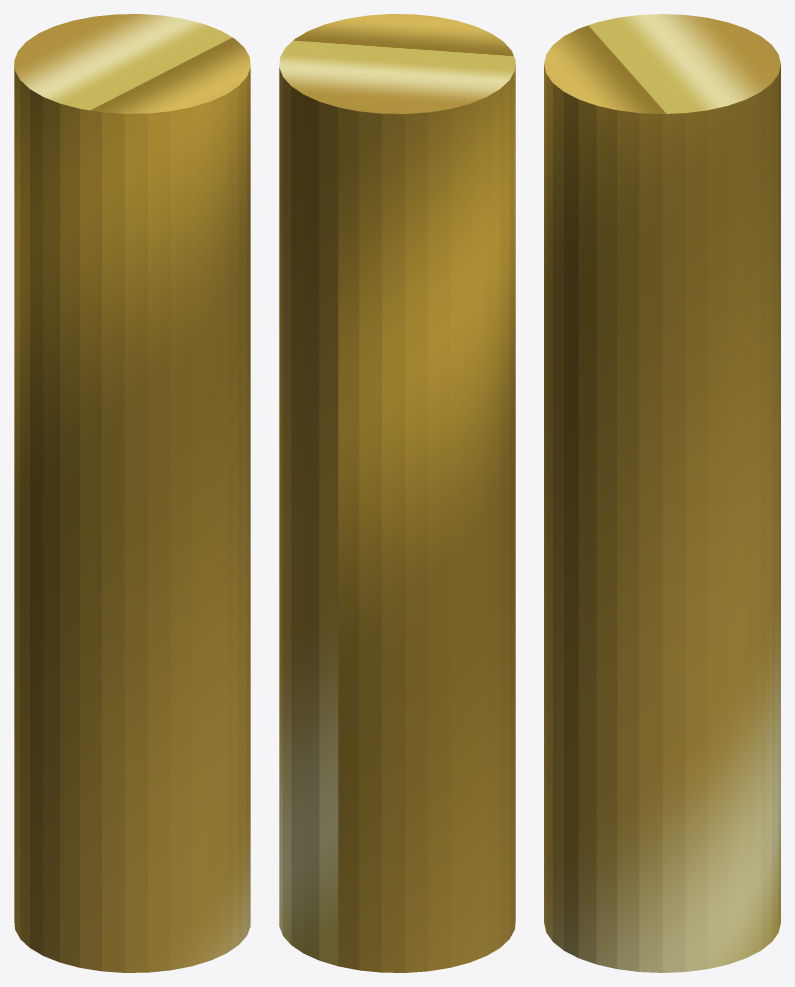
Rendered from Lazer.obj.
3 views of the same model, side by side, from view 1: azimuth 30°, elevation 25°; view 2: azimuth 150°, elevation 25°; view 3: azimuth 270°, elevation 25° (orthographic).
Visible parts, largest first — view 1: Lazer; view 2: Lazer; view 3: Lazer.
Boxes of the visible parts, <box> form: Lazer: <box>14,14,250,972</box>; Lazer: <box>279,14,515,972</box>; Lazer: <box>544,14,780,972</box>.
Size of the model in its own units: 2 by 8 by 2.
Materials: 1 (1 with a texture image).
